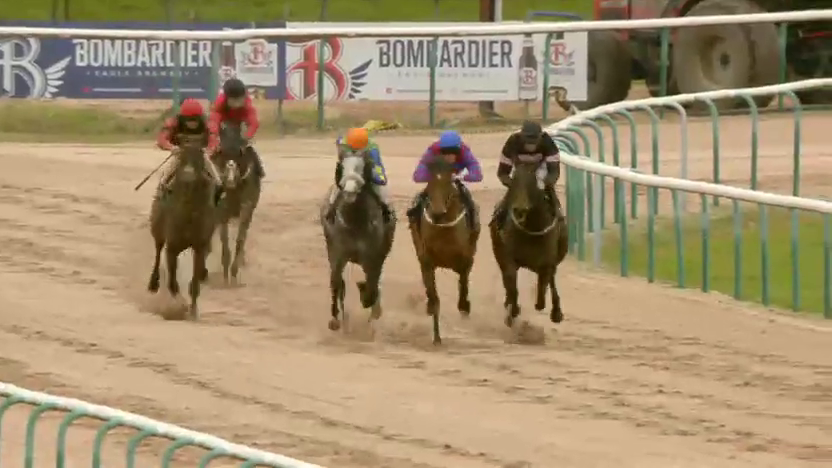jockey: (497, 123, 561, 227), (414, 131, 481, 219), (164, 97, 221, 200), (207, 81, 262, 175), (334, 131, 385, 220)
